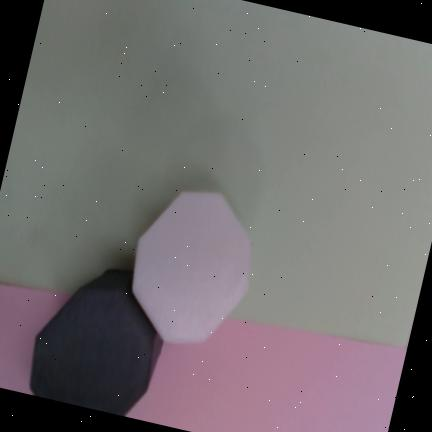Prisma_hexagonal: (28, 269, 163, 417), (132, 191, 253, 343)
